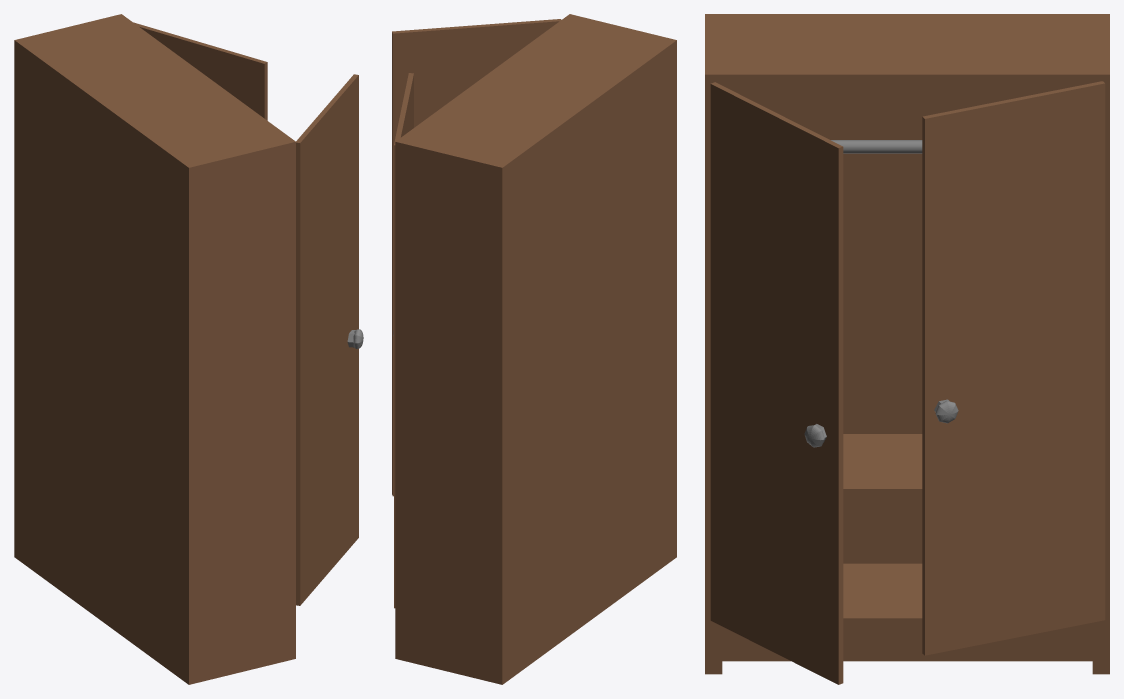
File: clos.fbx
3 views of the same model, side by side, from view 1: azimuth 30°, elevation 25°; view 2: azimuth 150°, elevation 25°; view 3: azimuth 270°, elevation 25° (orthographic). The views are drawn at different scales.
Visible parts, largest first — view 1: Sphere.001; view 2: Sphere.001; view 3: Sphere.001.
Part boxes in pixels (x1,y1,x2,y2): Sphere.001: (14, 14, 363, 684); Sphere.001: (392, 14, 676, 684); Sphere.001: (705, 14, 1109, 684).
Bounding box in the file's own units: 425 × 922 × 564.
